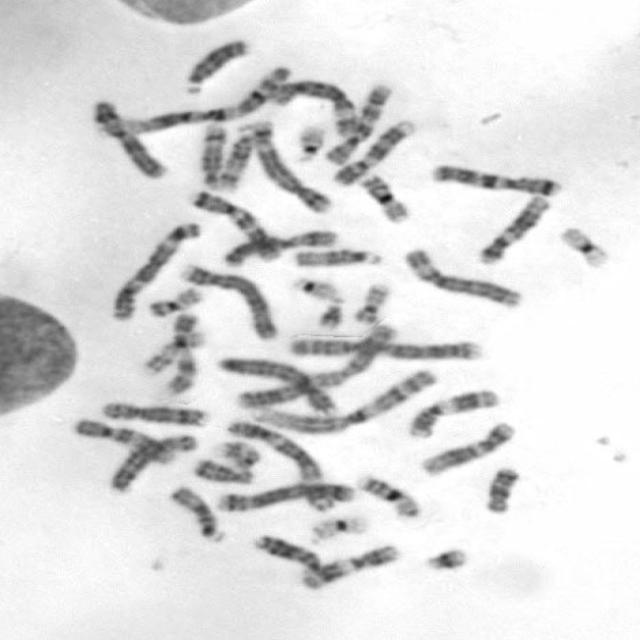A1: (235, 365, 440, 436), (113, 62, 294, 136)
A2: (230, 321, 403, 411), (281, 332, 484, 363)
A3: (226, 422, 339, 512), (105, 218, 203, 321)
B4: (174, 259, 280, 341), (212, 352, 339, 414)
B5: (248, 124, 334, 214), (210, 478, 360, 514)
C10: (320, 80, 394, 167), (67, 414, 177, 467)
C11: (400, 385, 501, 440), (296, 540, 403, 591)
C12: (416, 417, 518, 477), (472, 192, 552, 265)
C6: (398, 243, 526, 310), (264, 76, 358, 126)
C7: (185, 186, 283, 263), (425, 160, 562, 198)
C8: (116, 433, 203, 493), (95, 397, 211, 428)
C9: (327, 116, 418, 187), (160, 310, 198, 395)
D13: (178, 34, 250, 96), (248, 531, 323, 576)
D14: (212, 122, 256, 193), (194, 119, 228, 190)
D15: (165, 482, 227, 544), (290, 244, 385, 270)
E16: (353, 472, 422, 520), (354, 170, 411, 225)
E17: (139, 328, 206, 376), (211, 438, 260, 471)
E18: (479, 462, 522, 514), (189, 455, 255, 485)
F19: (554, 223, 612, 270), (305, 511, 372, 544)
F20: (143, 282, 206, 319), (348, 279, 394, 325)
G21: (418, 542, 471, 572), (312, 296, 346, 330)
G22: (289, 121, 328, 164), (297, 276, 347, 306)
X: (87, 97, 169, 181), (218, 225, 339, 269)
